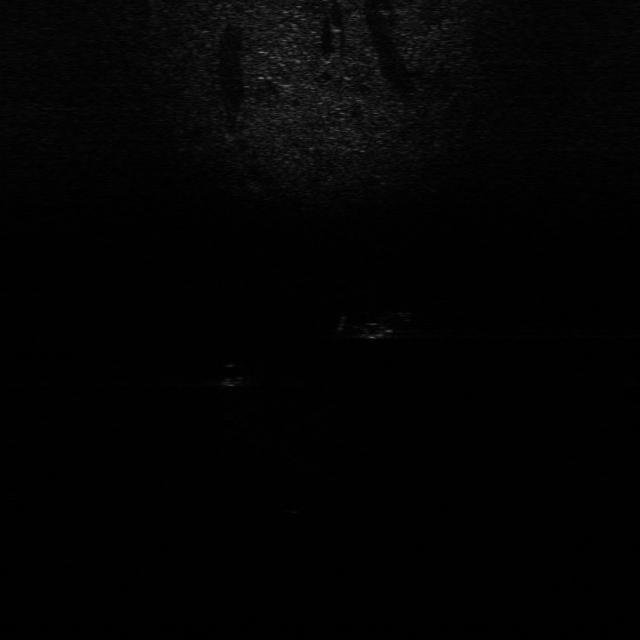ball: (217, 358, 259, 387)
human body: (334, 307, 416, 343)
